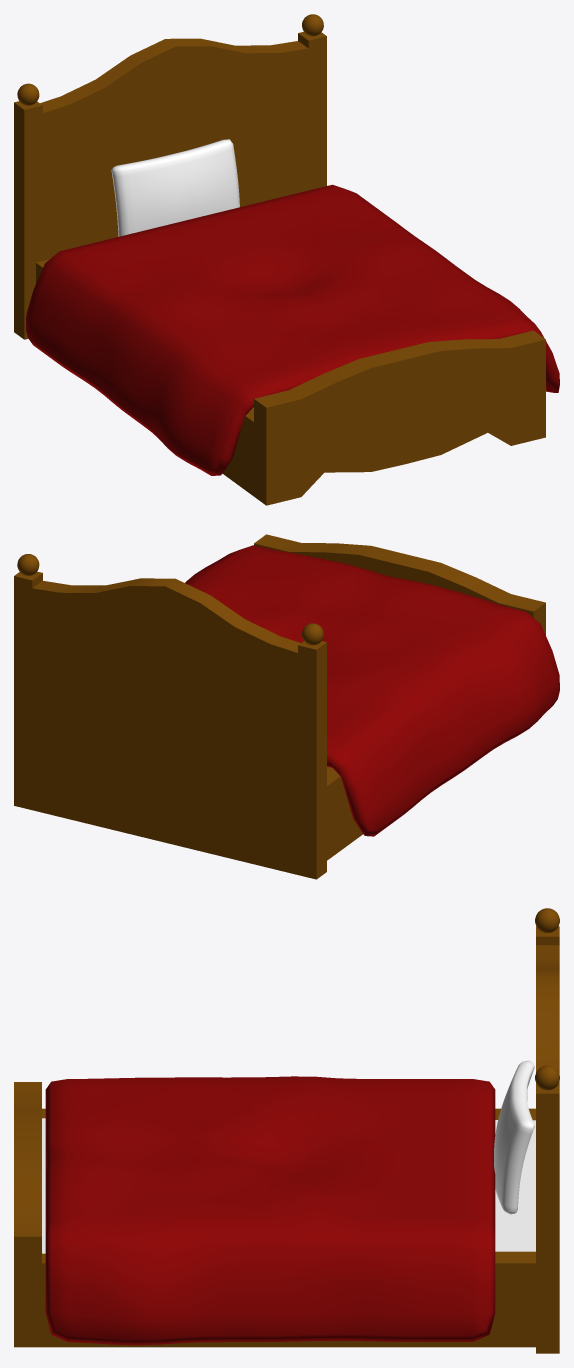
The model's file is bed_myroom.fbx.
The picture shows the model from 3 angles, top to bottom: view 1: azimuth 30°, elevation 25°; view 2: azimuth 150°, elevation 25°; view 3: azimuth 270°, elevation 25°; orthographic projection. The views are drawn at different scales.
Parts seen in each view (by area): view 1: pCube1, pPlane1, pPlane2; view 2: pCube1, pPlane1; view 3: pPlane1, pCube1, pPlane2.
Boxes of the visible parts, x1,y1,x2,y2 form: pCube1: [14, 31, 545, 505]; pPlane1: [26, 184, 559, 475]; pPlane2: [111, 139, 239, 236]; pCube1: [14, 534, 545, 879]; pPlane1: [185, 545, 559, 836]; pPlane1: [45, 1076, 495, 1345]; pCube1: [14, 926, 559, 1353]; pPlane2: [494, 1060, 534, 1214].
Size of the model in its own units: 5.14 by 3.45 by 5.87.
